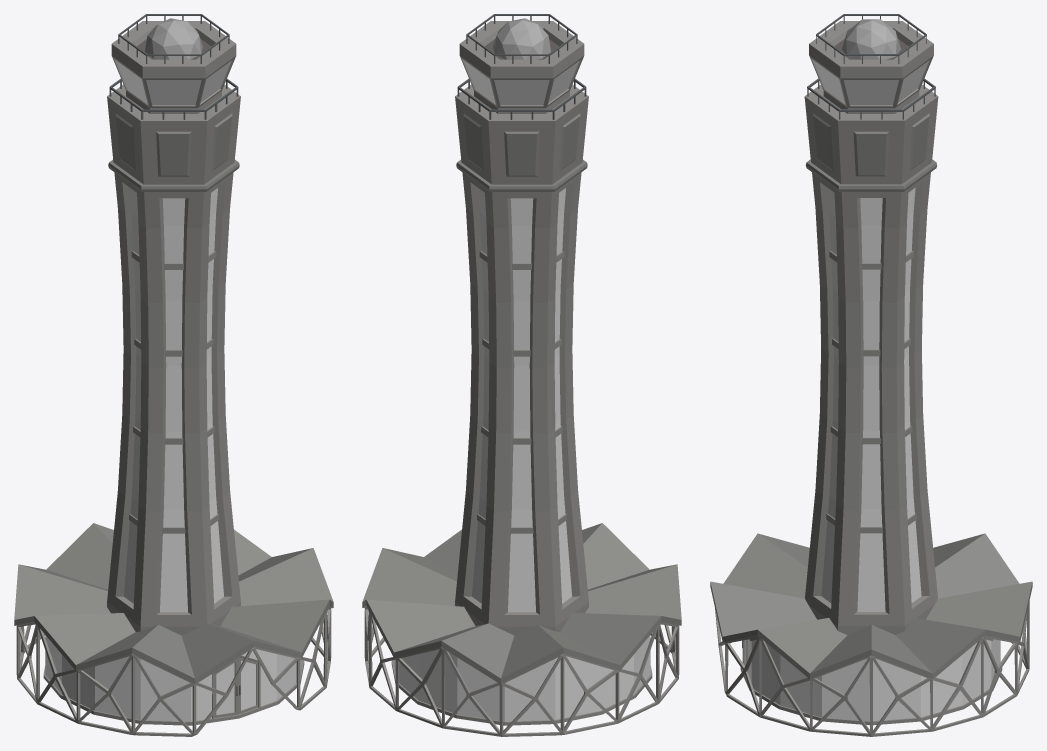
File: SM_Bldg_City_Airport_Tower.fbx
3 views of the same model, side by side, from view 1: azimuth 30°, elevation 25°; view 2: azimuth 150°, elevation 25°; view 3: azimuth 270°, elevation 25° (orthographic).
Parts seen in each view (by area): view 1: SM_Bldg_City_Airport_Tower; view 2: SM_Bldg_City_Airport_Tower; view 3: SM_Bldg_City_Airport_Tower.
Part boxes in pixels (bbox=[...]): SM_Bldg_City_Airport_Tower: bbox=[14, 14, 333, 736]; SM_Bldg_City_Airport_Tower: bbox=[362, 14, 681, 736]; SM_Bldg_City_Airport_Tower: bbox=[710, 14, 1032, 736].
Bounding box in the file's own units: 1000 × 2227 × 1000.
